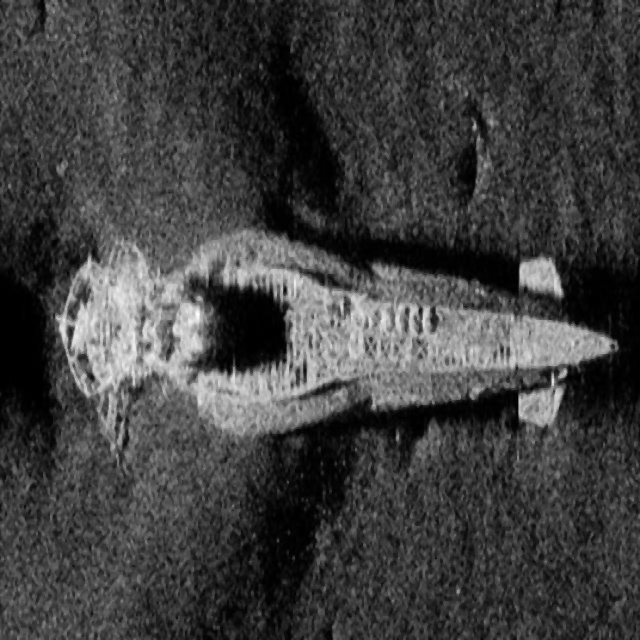Ship: (55, 212, 623, 459)
